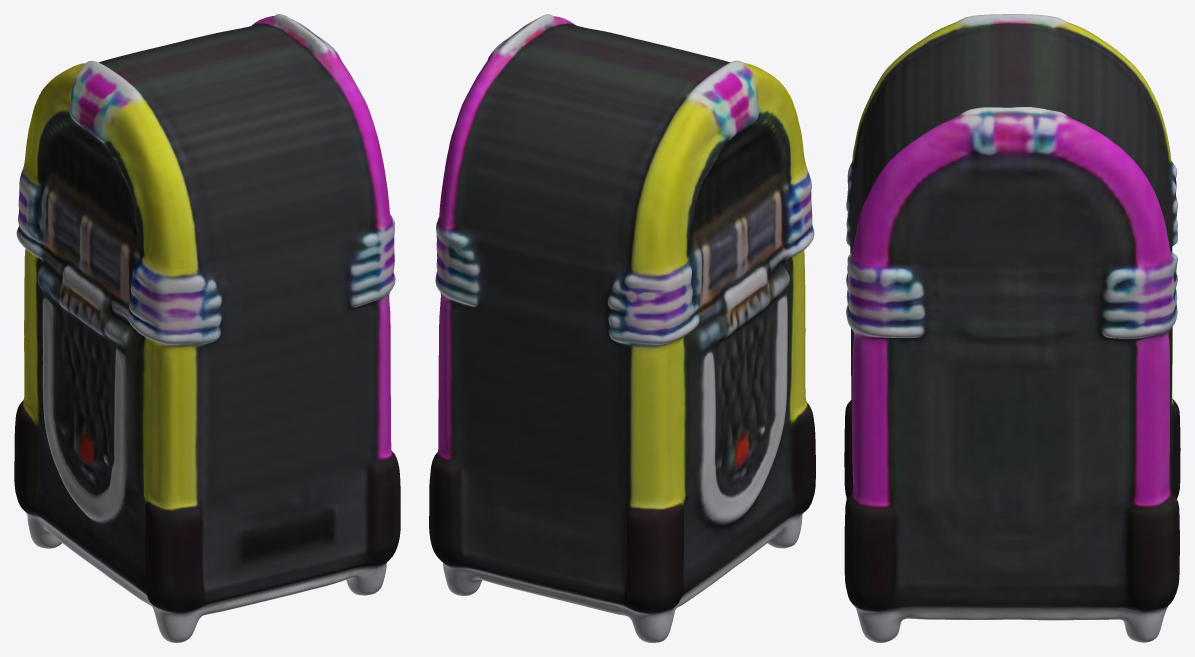
The model's file is d2700fbcf003_jukebox_with_synthw.fbx.
3 views of the same model, side by side, from view 1: azimuth 30°, elevation 25°; view 2: azimuth 150°, elevation 25°; view 3: azimuth 270°, elevation 25° (orthographic). The views are drawn at different scales.
Parts seen in each view (by area): view 1: high_poly; view 2: high_poly; view 3: high_poly.
Boxes of the visible parts, left/top/right/bottom form: high_poly: left=14, top=14, right=400, bottom=642; high_poly: left=429, top=14, right=815, bottom=642; high_poly: left=844, top=14, right=1180, bottom=642.
Bounding box in the file's own units: 50.75 × 100 × 57.1.
